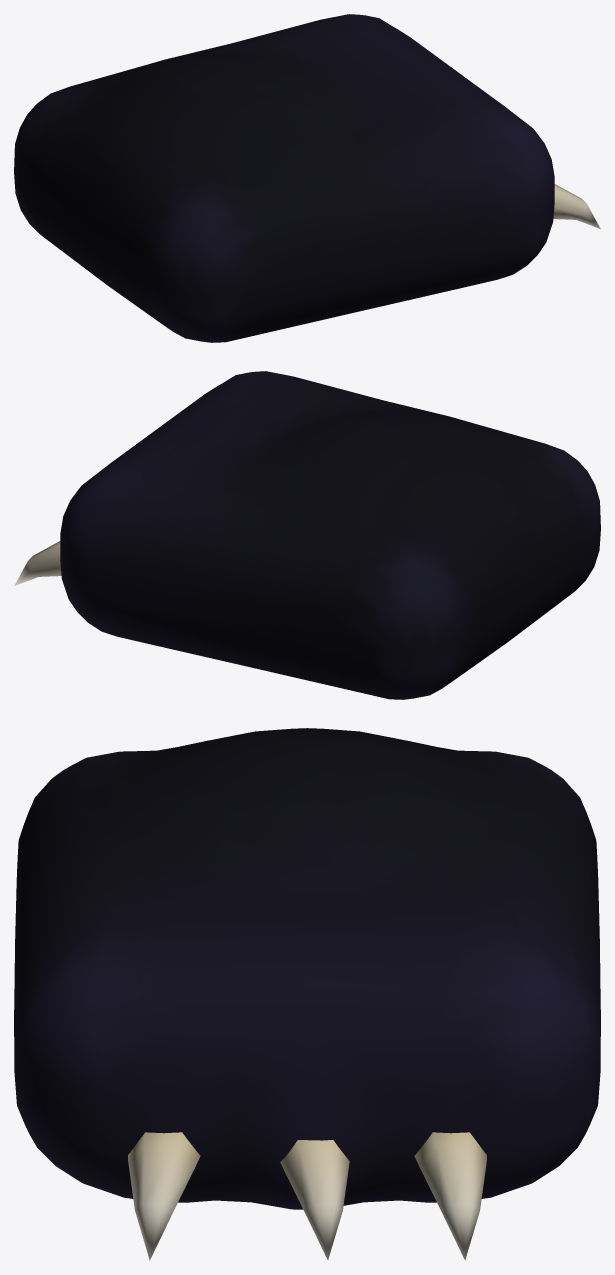
Rendered from foot.glb.
3 views of the same model, one above another, from view 1: azimuth 30°, elevation 25°; view 2: azimuth 150°, elevation 25°; view 3: azimuth 270°, elevation 25° (orthographic). The views are drawn at different scales.
Parts seen in each view (by area): view 1: Goo, Teeth; view 2: Goo, Teeth; view 3: Goo, Teeth.
Part boxes in pixels (x1,y1,x2,y2): Goo: (14, 14, 554, 342); Teeth: (553, 184, 600, 228); Goo: (60, 371, 600, 699); Teeth: (14, 541, 61, 585); Goo: (14, 728, 600, 1209); Teeth: (128, 1132, 486, 1260).
Size of the model in its own units: 0.5648 by 0.2291 by 0.4281.
